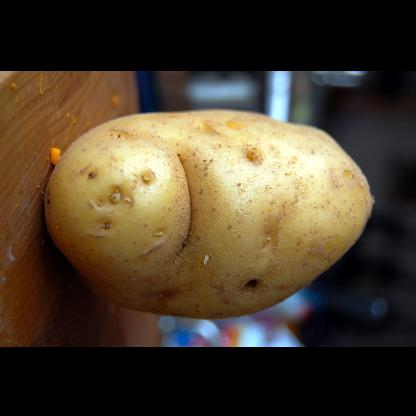potato: (43, 106, 375, 317)
